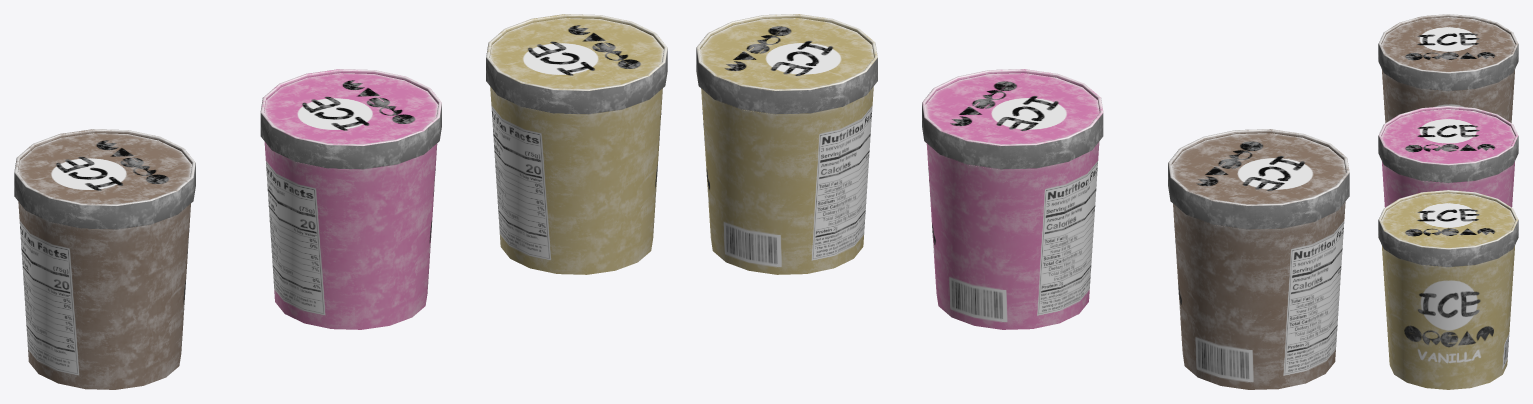
Rendered from Ice_Cream.fbx.
3 views of the same model, side by side, from view 1: azimuth 30°, elevation 25°; view 2: azimuth 150°, elevation 25°; view 3: azimuth 270°, elevation 25° (orthographic). The views are drawn at different scales.
Parts seen in each view (by area): view 1: Ice_Cream_2, Ice_Cream_1, Ice_Cream; view 2: Ice_Cream_2, Ice_Cream_1, Ice_Cream; view 3: Ice_Cream_2, Ice_Cream_1, Ice_Cream.
Boxes of the visible parts, left/top/right/bottom form: Ice_Cream_2: left=486, top=14, right=667, bottom=274; Ice_Cream_1: left=14, top=129, right=195, bottom=389; Ice_Cream: left=260, top=69, right=441, bottom=329; Ice_Cream_2: left=696, top=14, right=877, bottom=274; Ice_Cream_1: left=1168, top=129, right=1349, bottom=389; Ice_Cream: left=922, top=69, right=1103, bottom=329; Ice_Cream_2: left=1378, top=190, right=1518, bottom=389; Ice_Cream_1: left=1378, top=14, right=1518, bottom=122; Ice_Cream: left=1378, top=106, right=1518, bottom=207.
Size of the model in its own units: 60.33 by 17.42 by 15.18.
3 materials, 3 textured.
